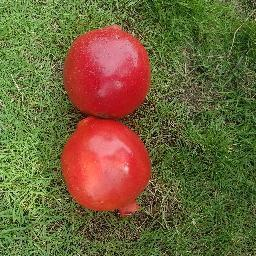Good_pomegranate: (61, 122, 151, 221), (62, 21, 152, 118)
